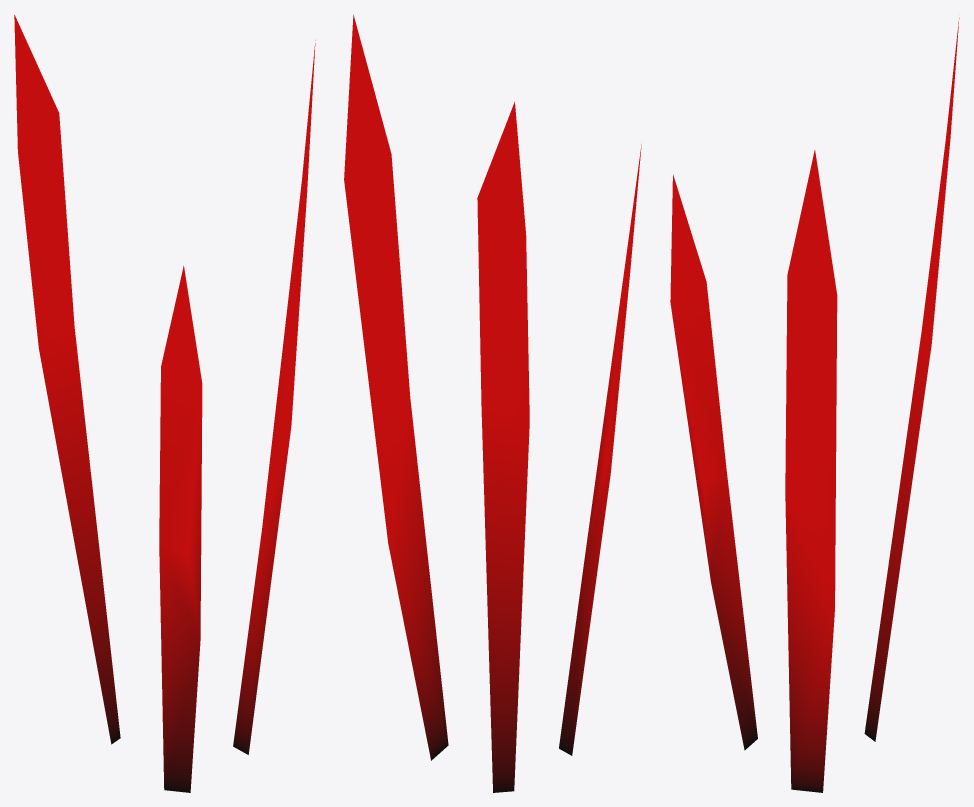
Rendered from Reeds4.fbx.
3 views of the same model, side by side, from view 1: azimuth 30°, elevation 25°; view 2: azimuth 150°, elevation 25°; view 3: azimuth 270°, elevation 25° (orthographic). The views are drawn at different scales.
Parts seen in each view (by area): view 1: Reeds4; view 2: Reeds4; view 3: Reeds4.
Part boxes in pixels (x1,y1,x2,y2): Reeds4: (14,14,315,792); Reeds4: (344,14,641,792); Reeds4: (670,18,959,792).
Bounding box in the file's own units: 37.36 × 111 × 41.04.
